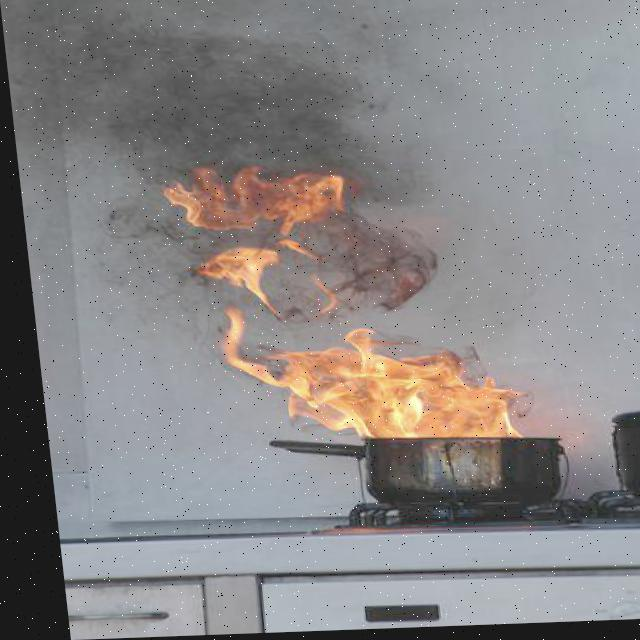Fire: (158, 156, 524, 449)
